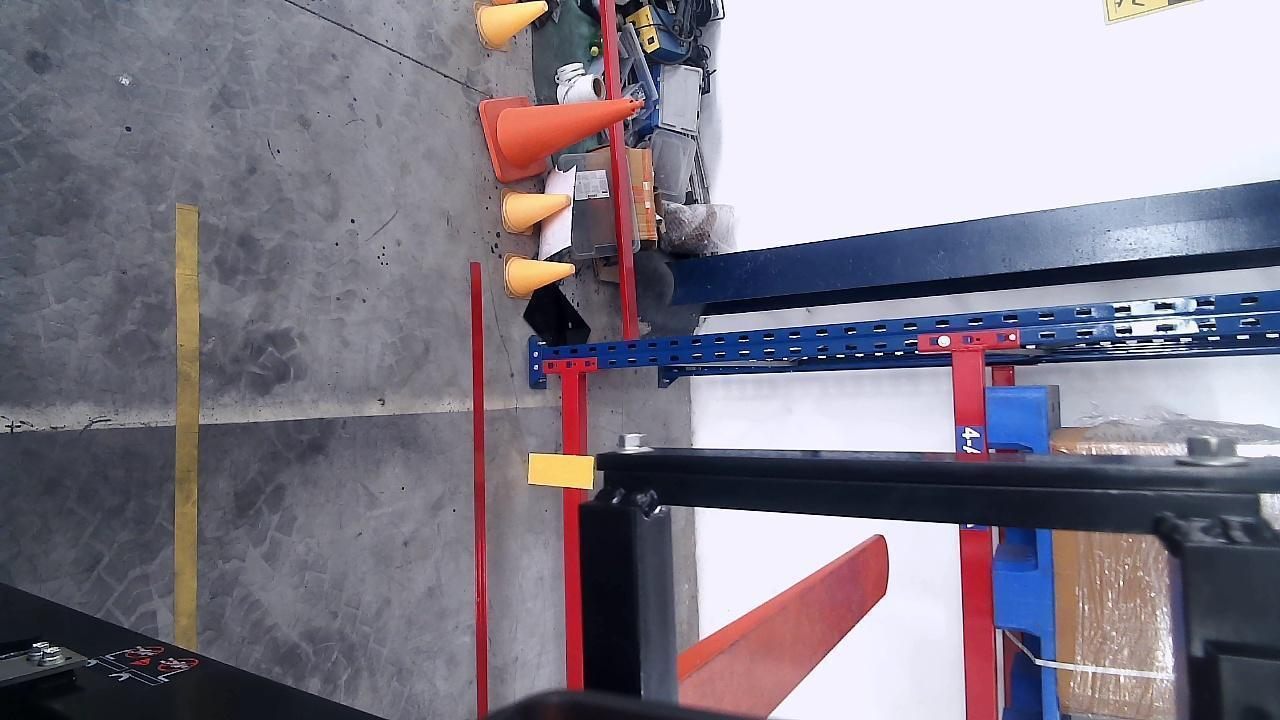red_line: (469, 262, 492, 718)
yellow_line: (175, 201, 200, 655)
